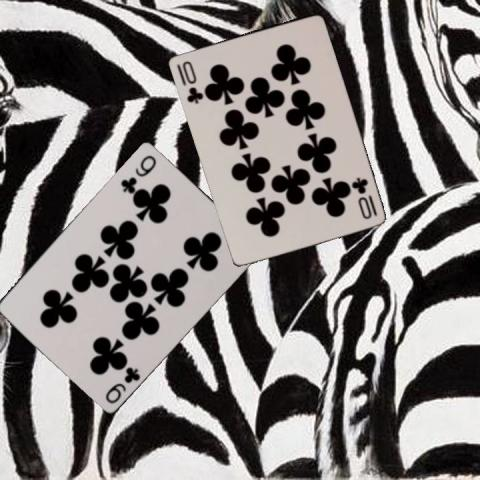10c: (349, 174, 378, 221), (178, 57, 205, 105)
9c: (118, 152, 158, 194), (102, 363, 142, 405)
